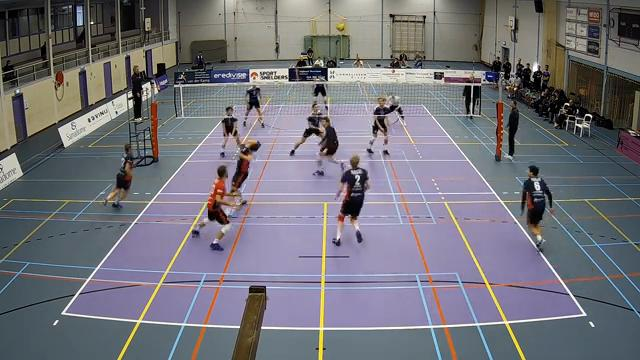alzata: (220, 132, 260, 218)
